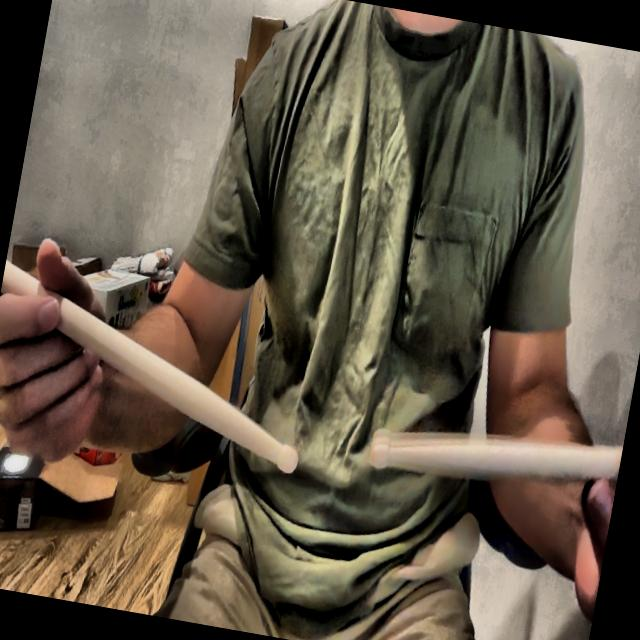Drumstick-Heads: (364, 418, 397, 474), (272, 435, 302, 479)
